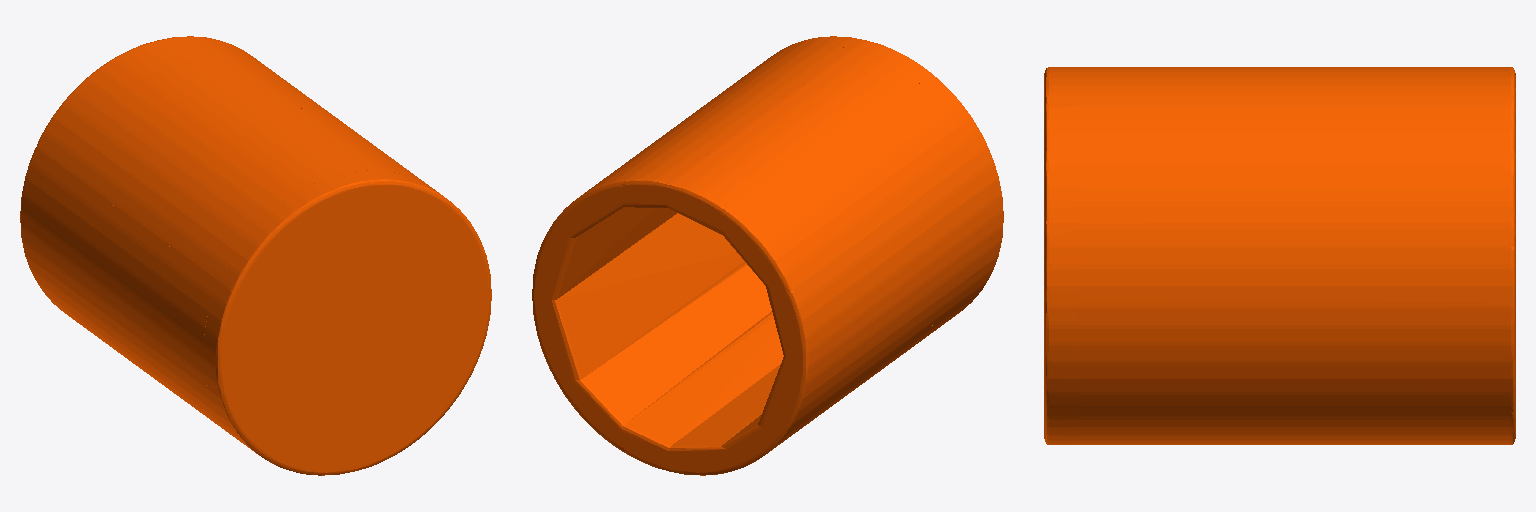
The robot description file, URDF, robot "cup":
<?xml version="1.0"?>
<!-- 3D-printed cup captured with the OptiTrack+AVP rig (Motive rigid body "d2_cup"). The mesh is
     the COACD convex decomposition (13 submeshes); the env loads it with
     convex_decomposition_from_submeshes enabled, so each submesh becomes its own convex collision
     shape and the cup keeps its concavity. Mass comes from asset_options.density (200 kg/m^3,
     low-fill 3D print). -->
<robot name="cup">
  <material name="obj_color">
      <color rgba="1.0 0.423529411765 0.0392156862745 1.0"/>
  </material>
  <link name="base">
    <visual>
      <origin xyz="0.0 0.0 0.0"/>
      <geometry>
        <mesh filename="cup.obj" scale="1 1 1"/>
      </geometry>
      <material name="obj_color"/>
    </visual>
    <collision>
      <origin xyz="0.0 0.0 0.0"/>
      <geometry>
        <mesh filename="cup.obj" scale="1 1 1"/>
      </geometry>
    </collision>
  </link>
</robot>

--- What the picture shows (computed from the rendered views, not written in the file) ---
3 views of the same robot in one strip: view 1: azimuth 30°, elevation 25°; view 2: azimuth 150°, elevation 25°; view 3: azimuth 270°, elevation 25° (orthographic).
Robot: cup — 1 links, 0 joints (none); root link base; default pose: all joints at 0.
Visible links, largest first — view 1: base; view 2: base; view 3: base.
Boxes of the visible links, x1,y1,x2,y2 form: base: [20, 36, 491, 475]; base: [532, 36, 1003, 475]; base: [1044, 67, 1515, 444].
Size in the robot's own frame: 0.0405 by 0.0505 by 0.0405 metres.
Meshes: 1 distinct files referenced, 1 mesh visuals loaded (1 OBJ).
